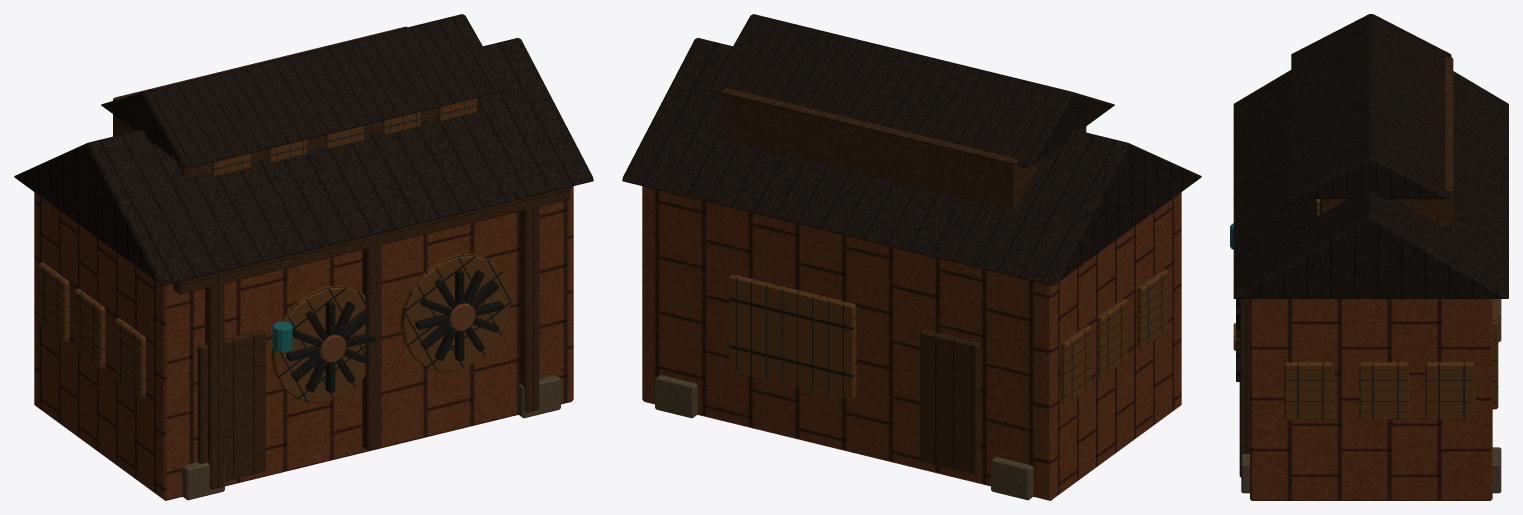
Rendered from dynamo-hall.glb.
3 renders of one model, left to right at view 1: azimuth 30°, elevation 25°; view 2: azimuth 150°, elevation 25°; view 3: azimuth 270°, elevation 25°, orthographic. The views are drawn at different scales.
Parts seen in each view (by area): view 1: DynamoHallFullWrap; view 2: DynamoHallFullWrap; view 3: DynamoHallFullWrap.
Part boxes in pixels (left/top/right/bottom): DynamoHallFullWrap: left=14, top=14, right=593, bottom=500; DynamoHallFullWrap: left=622, top=14, right=1201, bottom=500; DynamoHallFullWrap: left=1230, top=14, right=1508, bottom=500.
Size of the model in its own units: 5.38 by 4.15 by 3.24.
Materials: 1 (1 with a texture image).
